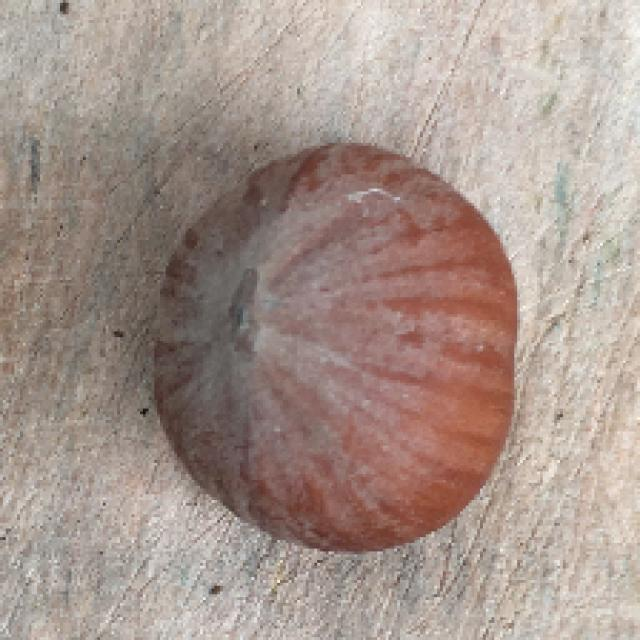qualityHazelnut: (154, 146, 523, 554)
